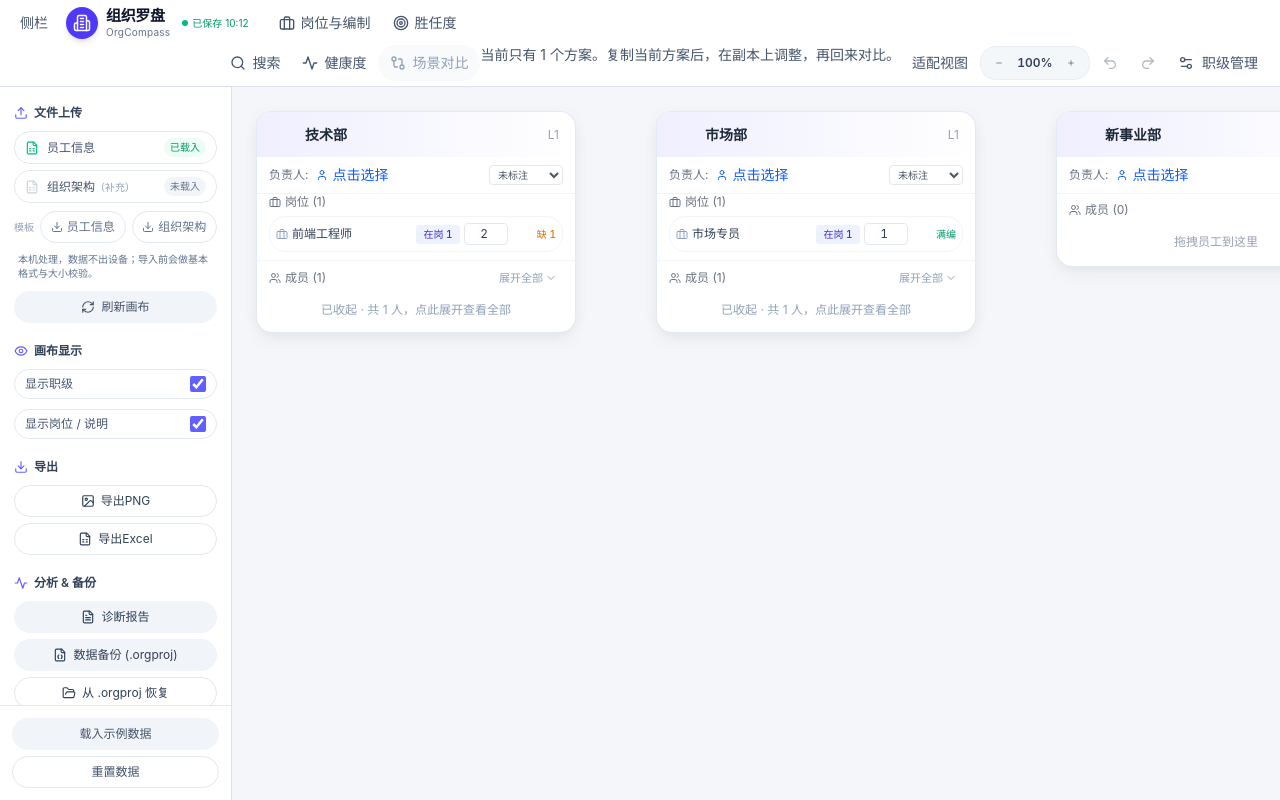
Test: V2.4.0 虚拟员工：App 端到端 › 「建虚拟兼岗」入口已从岗位界面消失（能力已迁移到虚拟员工流程）
The width and height of the screenshot is (1280, 800).
Click the button "岗位与编制": (325,23) [269,5,381,41]
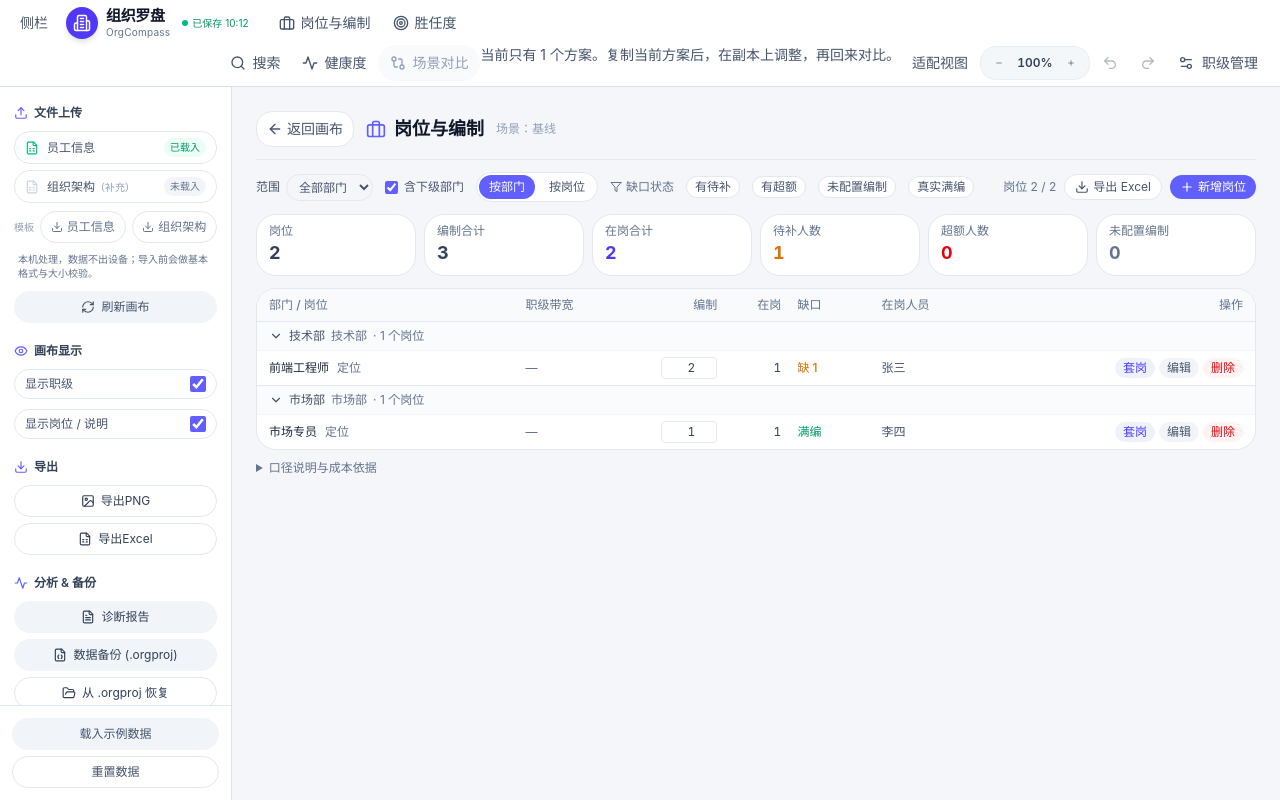
Now the element that starts with "返回画布" is shown, box [256,111,1256,475]
Now the button "套岗" in the row of "前端工程师" is shown, box [1115,358,1155,378]
